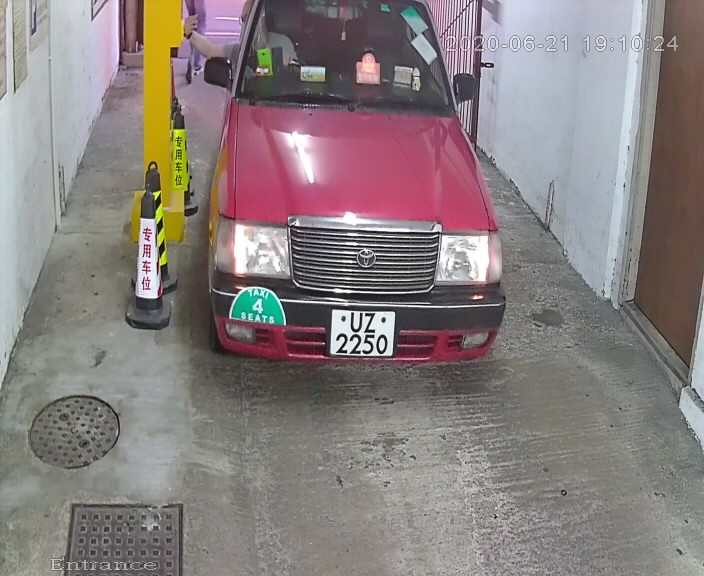taxi: (202, 1, 534, 414)
taxi_mark: (220, 277, 300, 340)
